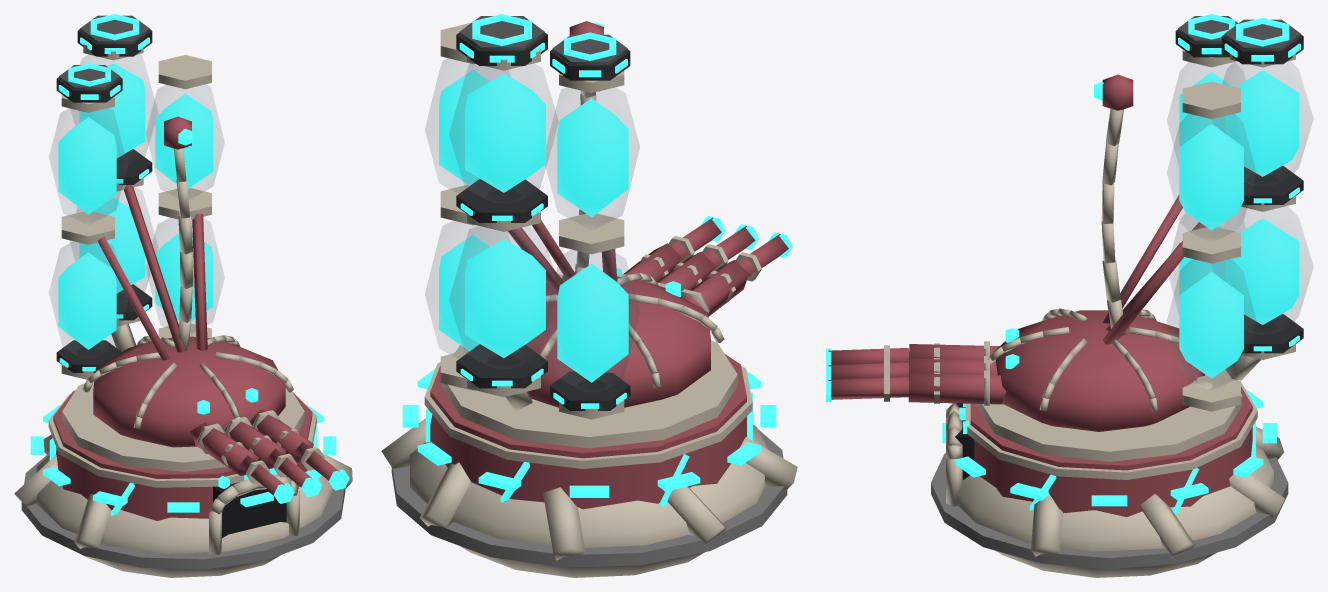
The model's file is Machinegoon_T3_Spitter.glb.
3 renders of one model, left to right at view 1: azimuth 30°, elevation 25°; view 2: azimuth 150°, elevation 25°; view 3: azimuth 270°, elevation 25°, orthographic. The views are drawn at different scales.
Visible parts, largest first — view 1: Machinegoon_T3_Spitter_Turret, Machinegoon_T3_Spitter_Base; view 2: Machinegoon_T3_Spitter_Turret, Machinegoon_T3_Spitter_Base; view 3: Machinegoon_T3_Spitter_Turret, Machinegoon_T3_Spitter_Base.
Part boxes in pixels (x1,y1,x2,y2): Machinegoon_T3_Spitter_Turret: (49, 14, 349, 503); Machinegoon_T3_Spitter_Base: (14, 390, 352, 577); Machinegoon_T3_Spitter_Turret: (425, 14, 792, 448); Machinegoon_T3_Spitter_Base: (381, 352, 797, 577); Machinegoon_T3_Spitter_Turret: (826, 14, 1313, 461); Machinegoon_T3_Spitter_Base: (931, 375, 1288, 577).
Bounding box in the file's own units: 3.5 × 5.57 × 4.78.
